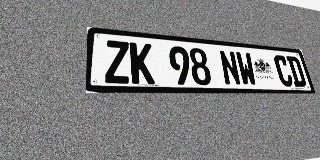8: (188, 47, 212, 85)
9: (168, 46, 193, 85)
C: (273, 55, 294, 87)
D: (286, 56, 307, 87)
K: (129, 42, 155, 84)
N: (218, 50, 242, 86)
W: (235, 51, 258, 86)
Z: (105, 40, 131, 84)
